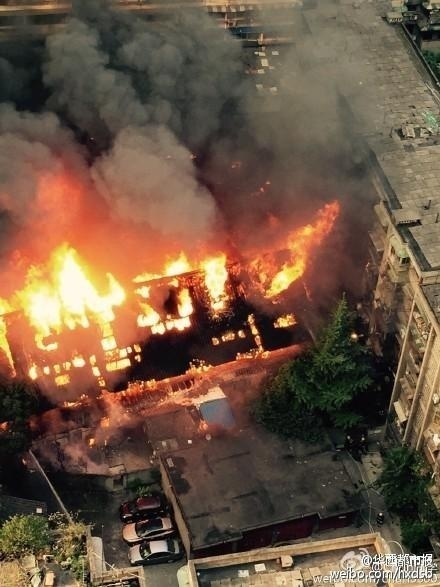fire: (15, 198, 317, 362)
